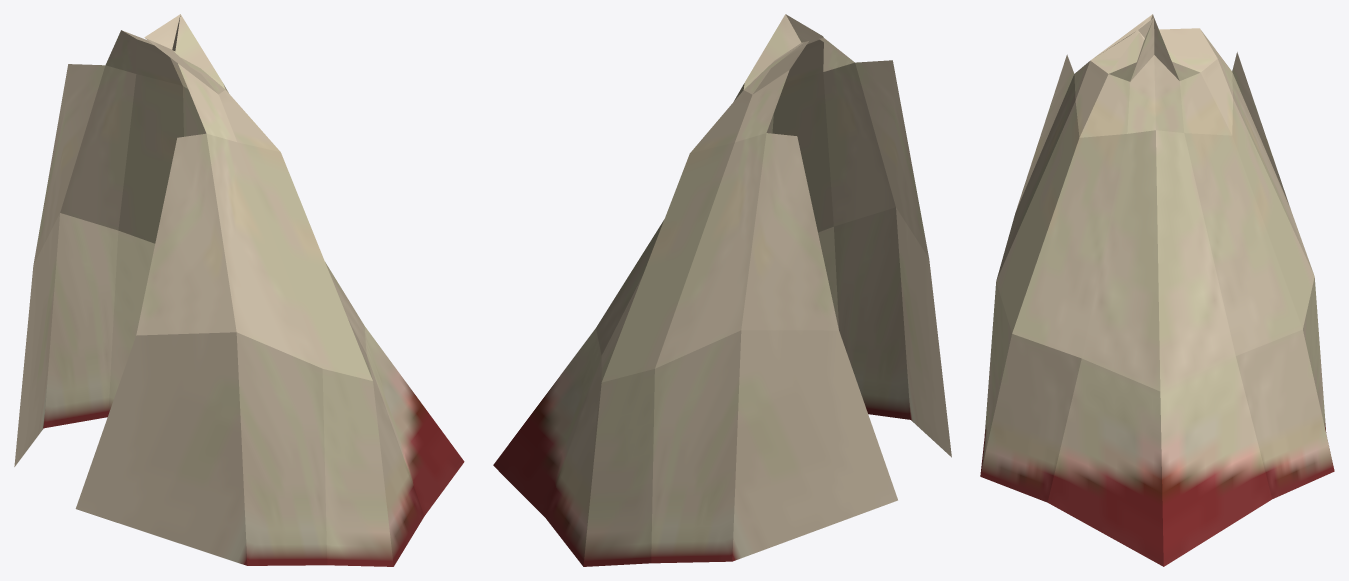
File: redGhostRobe.fbx
3 renders of one model, left to right at view 1: azimuth 30°, elevation 25°; view 2: azimuth 150°, elevation 25°; view 3: azimuth 270°, elevation 25°, orthographic. The views are drawn at different scales.
Visible parts, largest first — view 1: redGhostRobe; view 2: redGhostRobe; view 3: redGhostRobe.
Boxes of the visible parts, left/top/right/bottom form: redGhostRobe: left=14, top=14, right=464, bottom=566; redGhostRobe: left=493, top=14, right=951, bottom=566; redGhostRobe: left=980, top=14, right=1334, bottom=566.
Bounding box in the file's own units: 2.77 × 3.21 × 2.39.
Materials: 1 (1 with a texture image).
